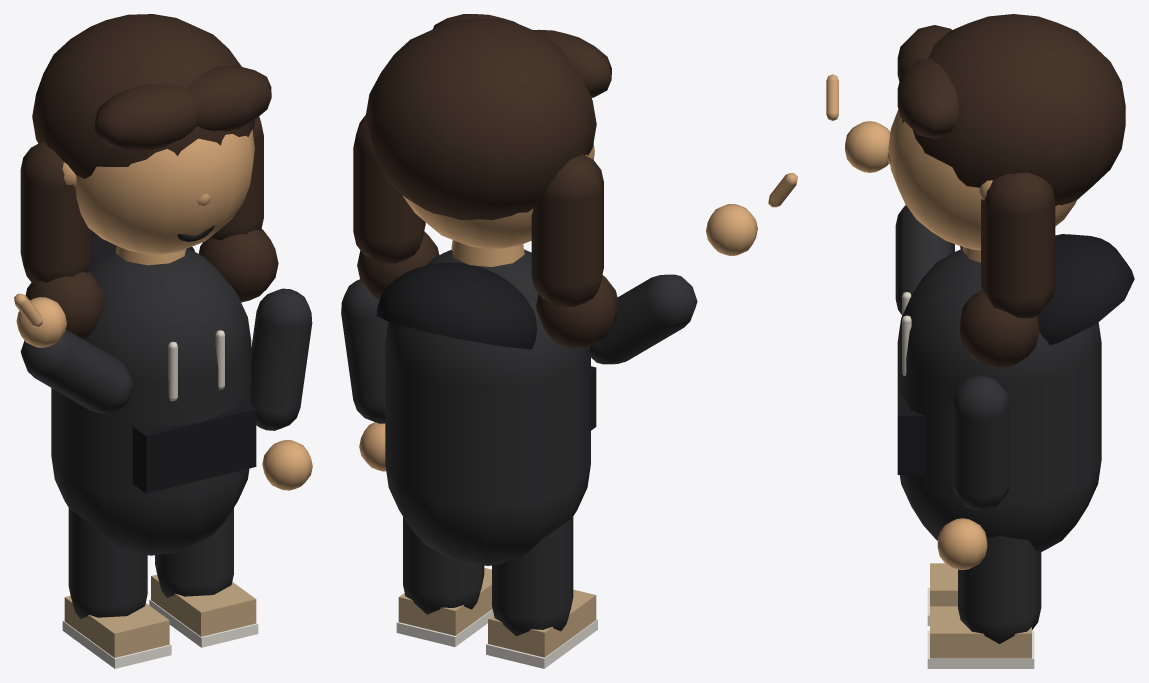
Rendered from hoodie-female.glb.
The picture shows the model from 3 angles, left to right: view 1: azimuth 30°, elevation 25°; view 2: azimuth 150°, elevation 25°; view 3: azimuth 270°, elevation 25°; orthographic projection. The views are drawn at different scales.
Parts seen in each view (by area): view 1: HoodieFemale; view 2: HoodieFemale; view 3: HoodieFemale.
Part boxes in pixels (<box>): HoodieFemale: <box>14,14,312,668</box>; HoodieFemale: <box>341,14,797,668</box>; HoodieFemale: <box>826,14,1134,668</box>.
Size of the model in its own units: 0.4669 by 0.7222 by 0.3326.
